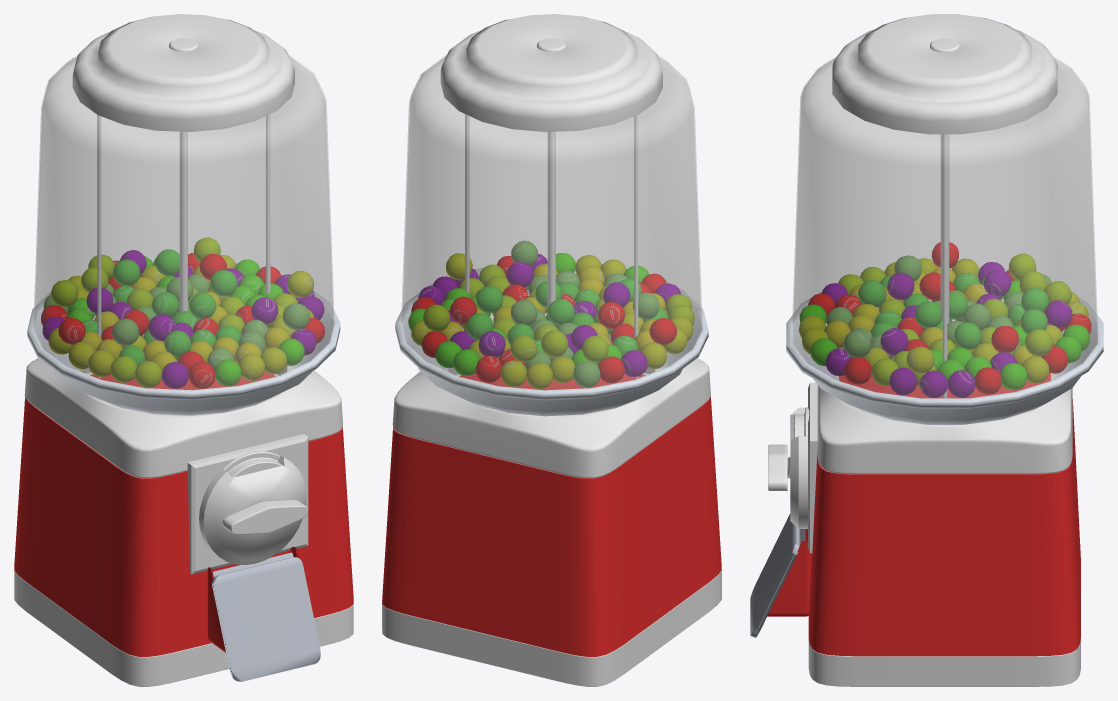
The model's file is gumball_machine.glb.
3 views of the same model, side by side, from view 1: azimuth 30°, elevation 25°; view 2: azimuth 150°, elevation 25°; view 3: azimuth 270°, elevation 25° (orthographic). The views are drawn at different scales.
Visible parts, largest first — view 1: GumballMachine.001, GumballMachine.002, Cube.090; view 2: GumballMachine.001, GumballMachine.002, Cube.090; view 3: GumballMachine.001, GumballMachine.002, Cube.090.
Boxes of the visible parts, <box> form: GumballMachine.001: <box>14,14,353,686</box>; GumballMachine.002: <box>33,55,334,389</box>; Cube.090: <box>41,237,324,388</box>; GumballMachine.001: <box>382,14,721,686</box>; GumballMachine.002: <box>401,55,702,389</box>; Cube.090: <box>408,240,694,389</box>; GumballMachine.001: <box>750,14,1103,686</box>; GumballMachine.002: <box>792,57,1097,397</box>; Cube.090: <box>798,242,1091,398</box>.
Bounding box in the file's own units: 0.2828 × 0.576 × 0.3149.
3 materials, 3 textured.
